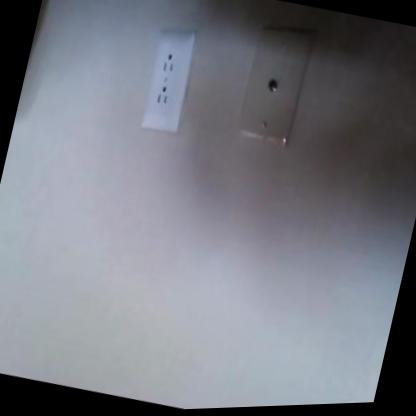OUTLET: (138, 25, 198, 135)
